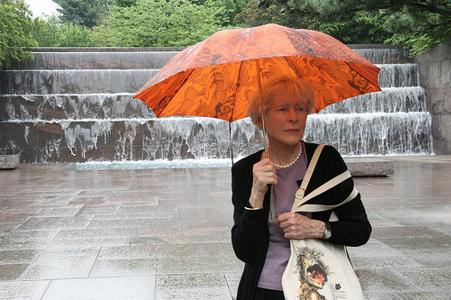person: (232, 75, 374, 300)
